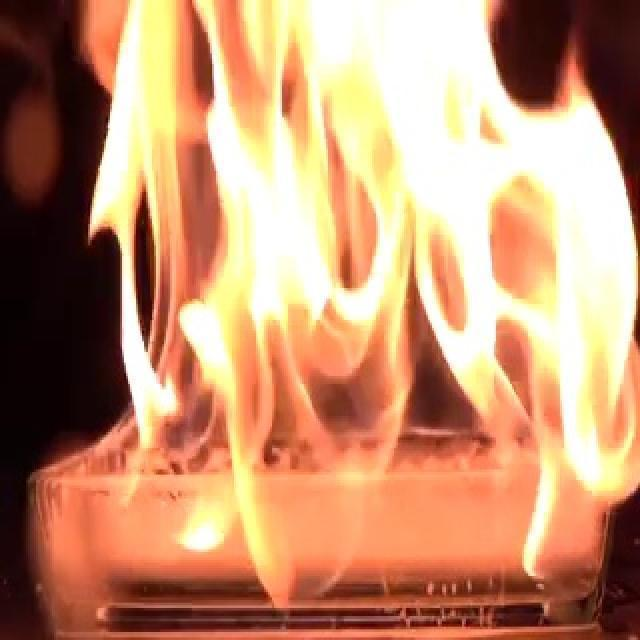Fire: (96, 2, 636, 550)
